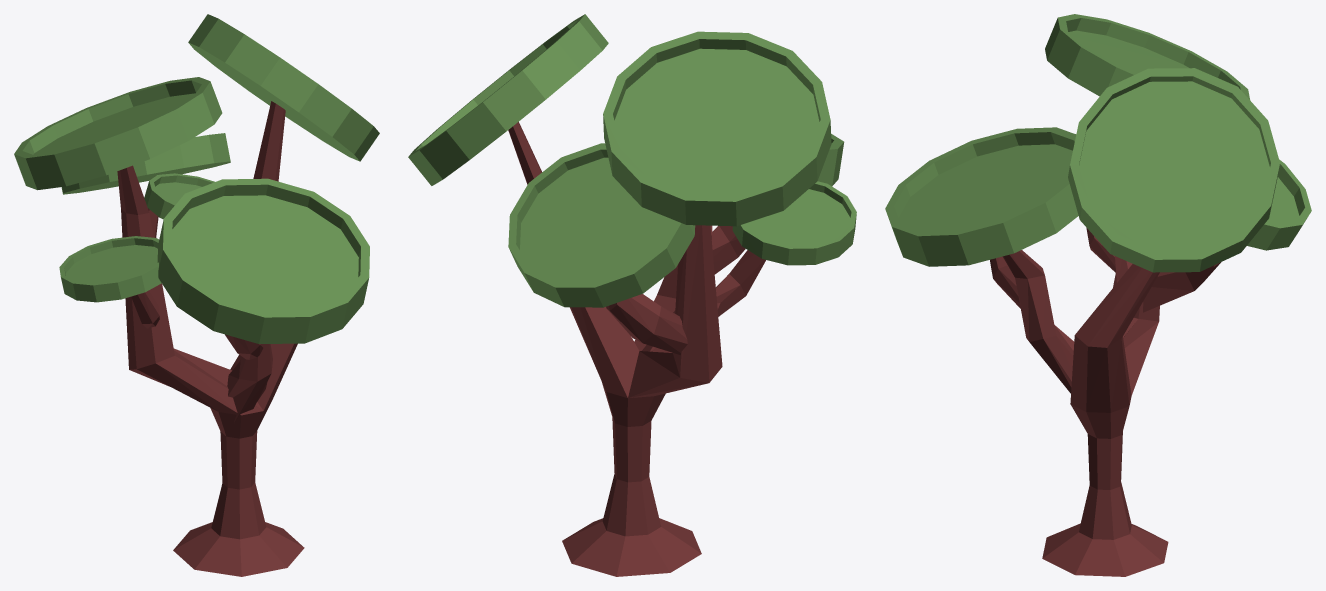
The model's file is tree-4.glb.
The picture shows the model from 3 angles, left to right: view 1: azimuth 30°, elevation 25°; view 2: azimuth 150°, elevation 25°; view 3: azimuth 270°, elevation 25°; orthographic projection. The views are drawn at different scales.
Parts seen in each view (by area): view 1: Cylinder.007; view 2: Cylinder.007; view 3: Cylinder.007.
Boxes of the visible parts, bbox=[...] form: Cylinder.007: bbox=[14, 14, 379, 576]; Cylinder.007: bbox=[408, 14, 856, 576]; Cylinder.007: bbox=[885, 14, 1311, 576].
Bounding box in the file's own units: 10.16 × 13.81 × 10.79.
